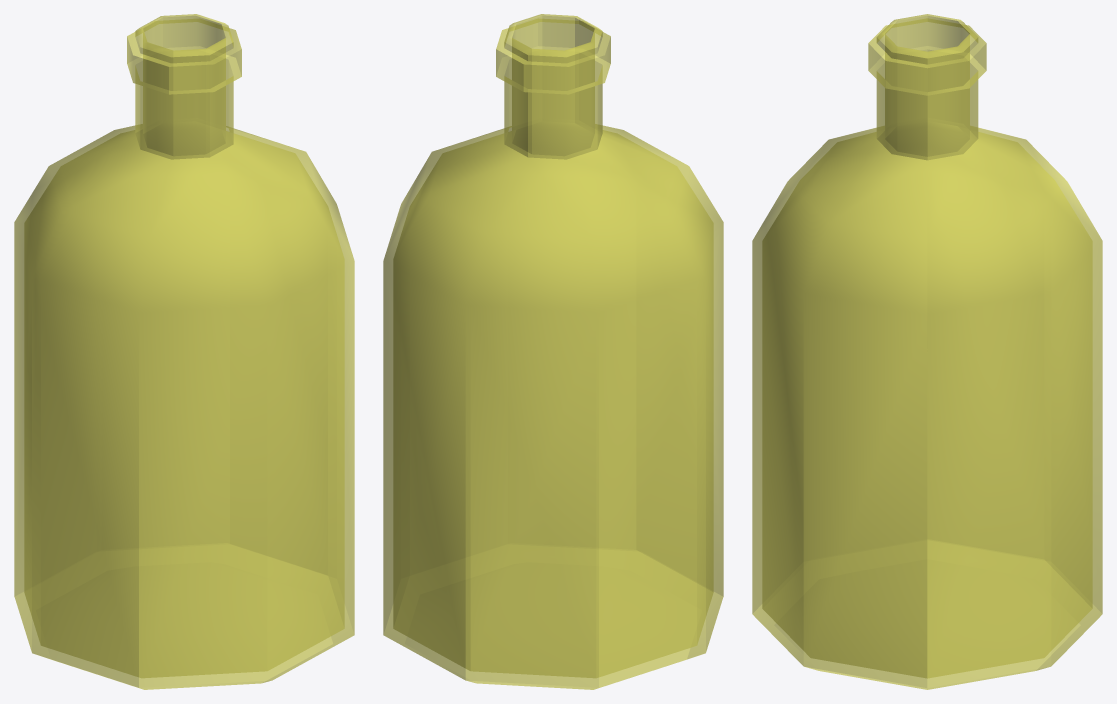
File: PROP_013_Bottles_D.fbx
3 views of the same model, side by side, from view 1: azimuth 30°, elevation 25°; view 2: azimuth 150°, elevation 25°; view 3: azimuth 270°, elevation 25° (orthographic).
Parts seen in each view (by area): view 1: Cuadrado_003; view 2: Cuadrado_003; view 3: Cuadrado_003.
Part boxes in pixels (x1,y1,x2,y2): Cuadrado_003: (14, 14, 354, 689); Cuadrado_003: (383, 14, 723, 689); Cuadrado_003: (752, 14, 1102, 689).
Size of the model in its own units: 0.1782 by 0.3319 by 0.1782.
